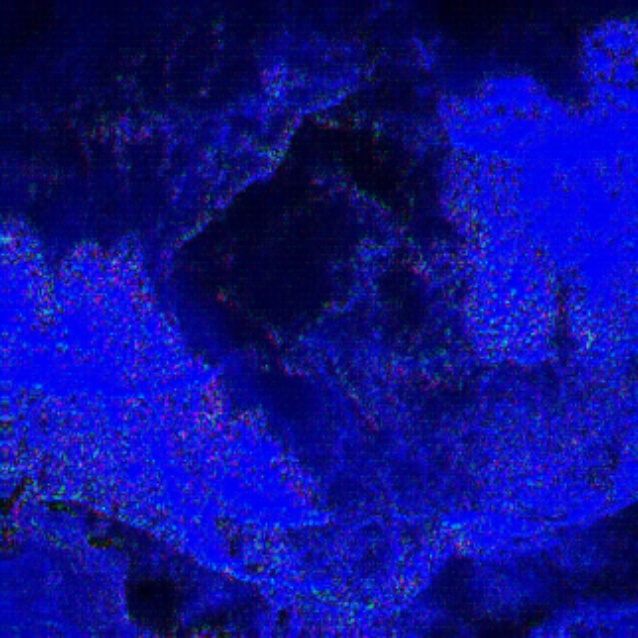rip_current: (125, 141, 519, 523)
